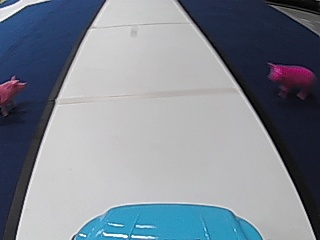pig: (264, 58, 313, 100), (0, 75, 27, 115)
